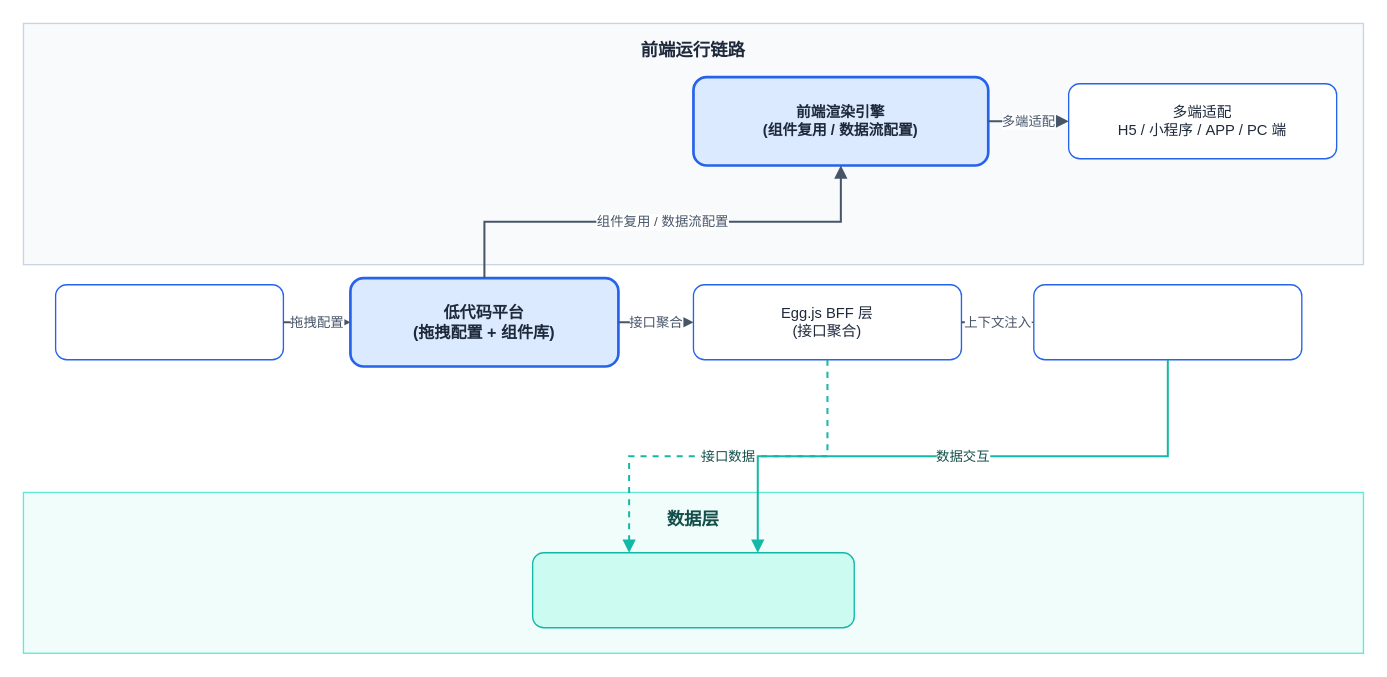
The diagram is 1387 pixels wide and 677 high, and some of its shapes have lost their labels. The centre of each missing label's shape, as x and y in pixels:
"MySQL + Redis (数据交互 / 缓存)" goes at [692,589].
"SpringBoot 后端 (上下文注入)" goes at [1167,321].
"业务人员 / 开发人员" goes at [168,321].
